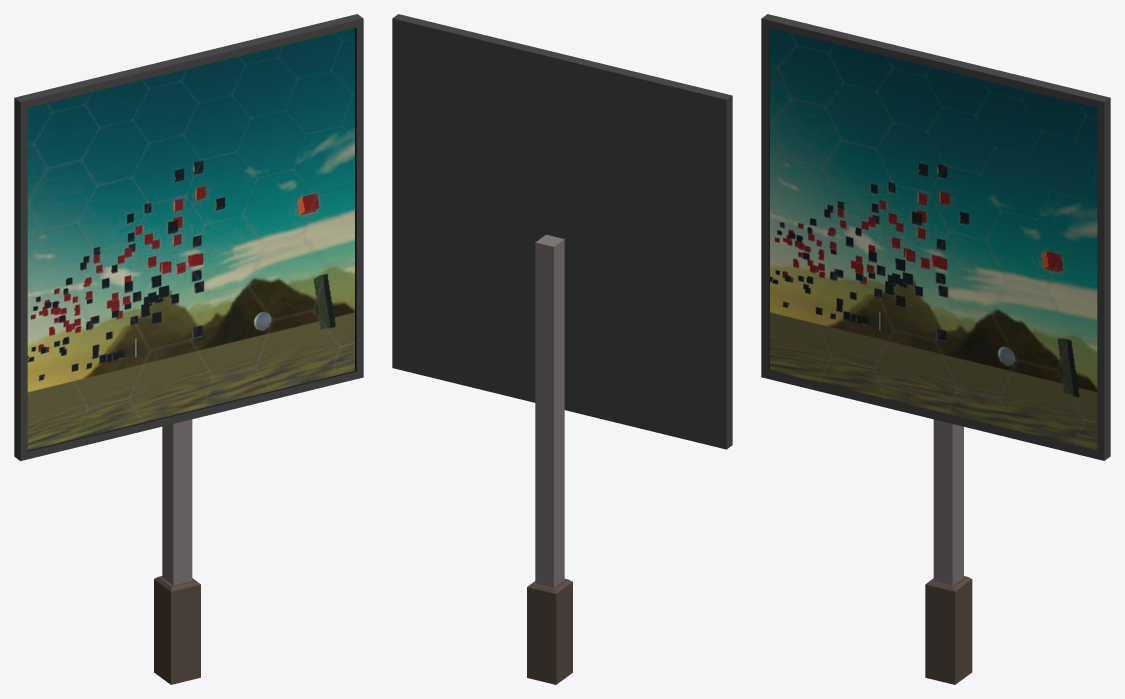
Rendered from first-experiment.glb.
The picture shows the model from 3 angles, left to right: view 1: azimuth 30°, elevation 25°; view 2: azimuth 150°, elevation 25°; view 3: azimuth 330°, elevation 25°; orthographic projection. The views are drawn at different scales.
Visible parts, largest first — view 1: first-experiment; view 2: first-experiment; view 3: first-experiment.
Boxes of the visible parts, x1,y1,x2,y2 form: first-experiment: (14,14,363,684); first-experiment: (392,14,732,684); first-experiment: (761,14,1110,684).
Size of what is drawn, in the model's own units: 2.54 by 4.43 by 0.3064.
2 materials, 2 textured.
